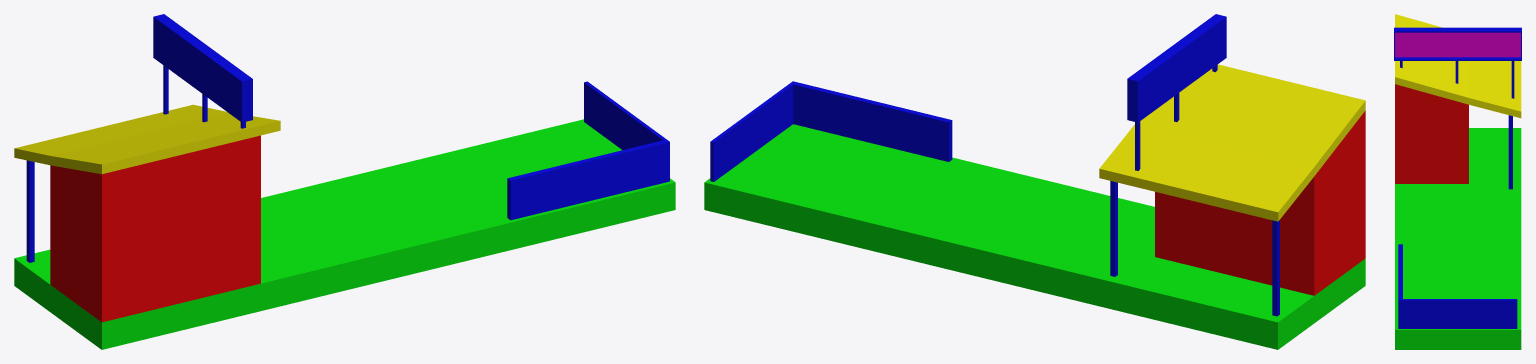
Rendered from TrainStation.fbx.
3 views of the same model, side by side, from view 1: azimuth 30°, elevation 25°; view 2: azimuth 150°, elevation 25°; view 3: azimuth 270°, elevation 25° (orthographic). The views are drawn at different scales.
Parts seen in each view (by area): view 1: mesh_TrainStation; view 2: mesh_TrainStation; view 3: mesh_TrainStation.
Part boxes in pixels (x1,y1,x2,y2): mesh_TrainStation: (14, 14, 675, 349); mesh_TrainStation: (704, 14, 1365, 349); mesh_TrainStation: (1394, 14, 1521, 349).
Bounding box in the file's own units: 1109 × 434 × 297.
